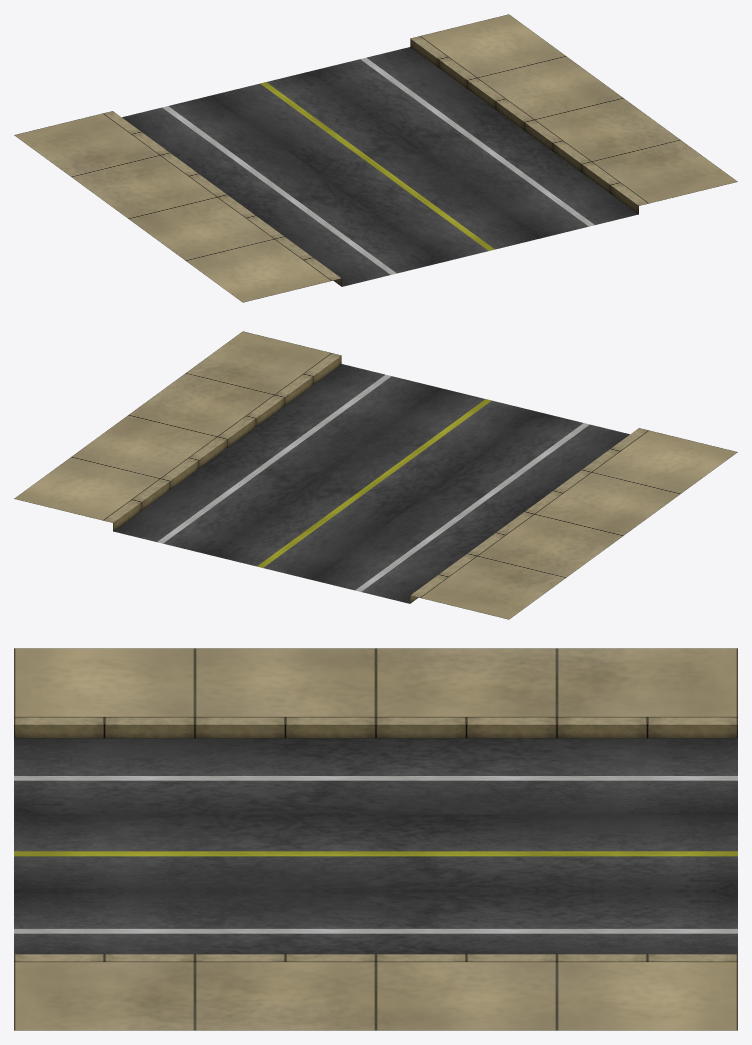
The model's file is Road 1.fbx.
3 views of the same model, one above another, from view 1: azimuth 30°, elevation 25°; view 2: azimuth 150°, elevation 25°; view 3: azimuth 270°, elevation 25° (orthographic). The views are drawn at different scales.
Visible parts, largest first — view 1: Rua; view 2: Rua; view 3: Rua.
Boxes of the visible parts, bbox=[...] form: Rua: bbox=[14, 14, 737, 302]; Rua: bbox=[14, 331, 737, 619]; Rua: bbox=[14, 648, 737, 1030].
Size of the model in its own units: 2499 by 40.84 by 2001.
